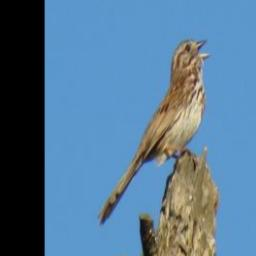Sparrow: (93, 36, 210, 228)
